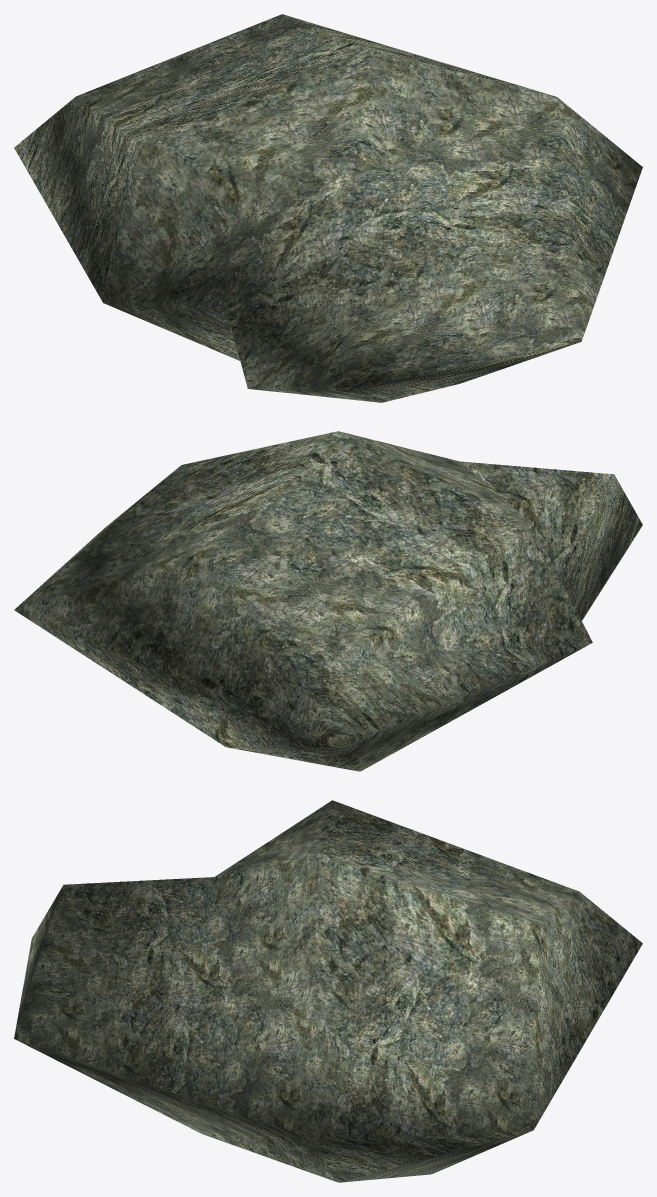
File: mtns_rock_grey_a4_l2.fbx
3 renders of one model, top to bottom at view 1: azimuth 30°, elevation 25°; view 2: azimuth 150°, elevation 25°; view 3: azimuth 270°, elevation 25°, orthographic. The views are drawn at different scales.
Parts seen in each view (by area): view 1: mesh_node; view 2: mesh_node; view 3: mesh_node.
Part boxes in pixels (x1,y1,x2,y2): mesh_node: (14,14,642,402); mesh_node: (14,431,642,771); mesh_node: (14,800,642,1182).
Size of the model in its own units: 2.67 by 1.37 by 2.93.
1 material, 1 textured.
